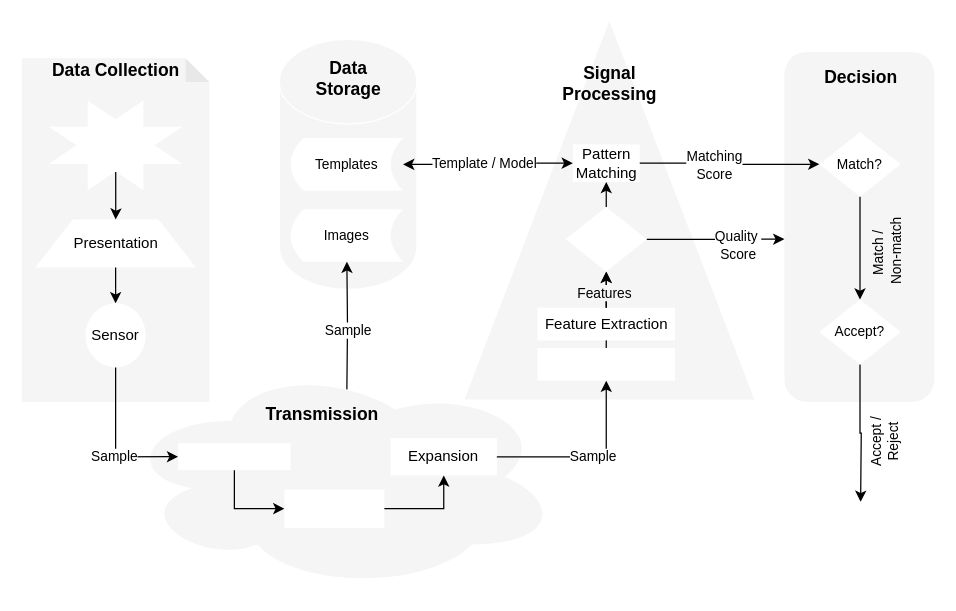
Some shapes in this 956 by 611 pixel diagram are drawn without their labels. Each missing label, with the centre of its shape:
"Biometric" belongs at [115,145].
"Compression" belongs at [234,456].
"Quality Control" belongs at [605,238].
"Segmentation" belongs at [605,363].
"Transmission Channel" belongs at [334,508].
